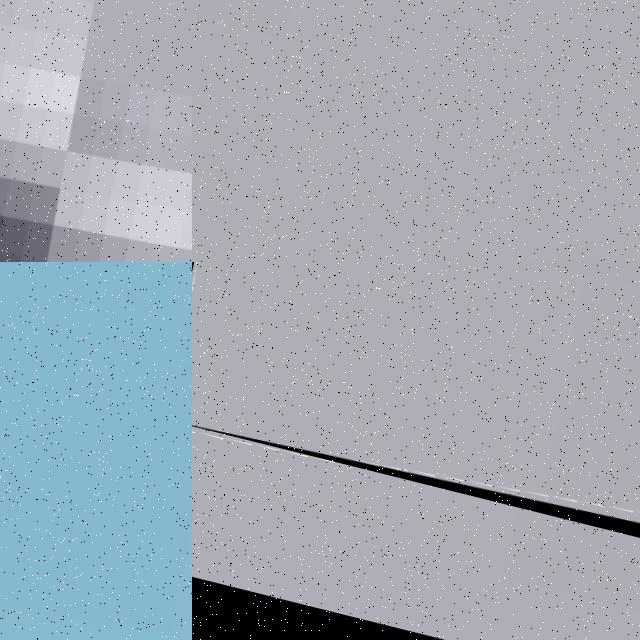0: (192, 262, 640, 569), (0, 0, 192, 262)
drone: (0, 262, 192, 640)
